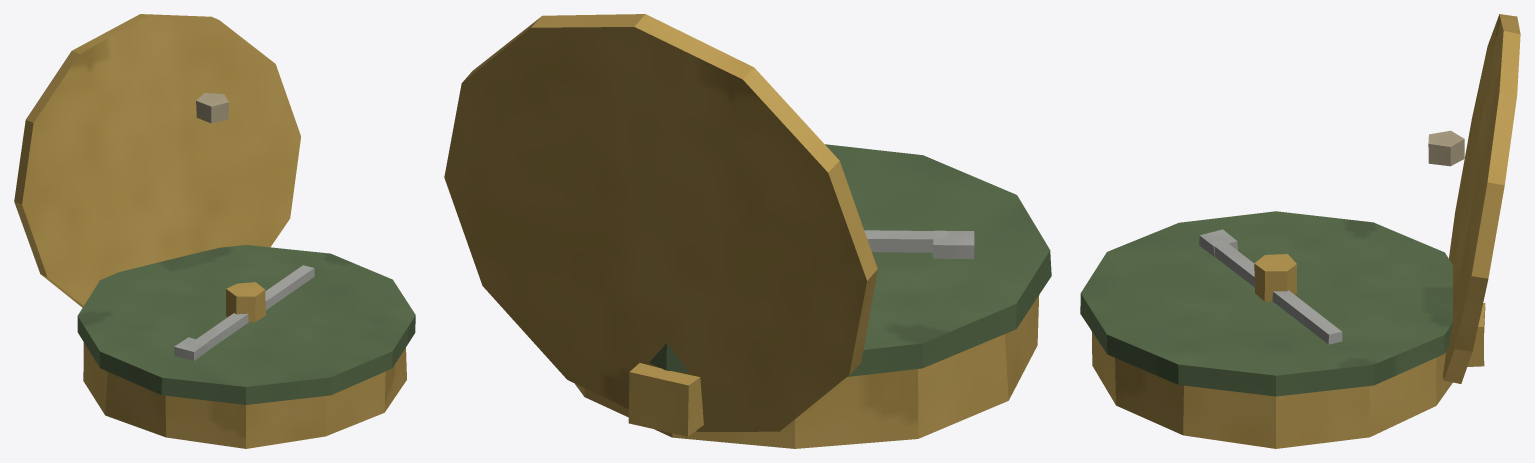
The model's file is drowned_compass.glb.
3 renders of one model, left to right at view 1: azimuth 30°, elevation 25°; view 2: azimuth 150°, elevation 25°; view 3: azimuth 270°, elevation 25°, orthographic. The views are drawn at different scales.
Visible parts, largest first — view 1: DrownedCompass; view 2: DrownedCompass; view 3: DrownedCompass.
Boxes of the visible parts, x1,y1,x2,y2 form: DrownedCompass: (14,14,415,448); DrownedCompass: (444,14,1051,448); DrownedCompass: (1080,14,1520,448).
Size of the model in its own units: 0.2465 by 0.2357 by 0.2779.
4 materials, 4 textured.
